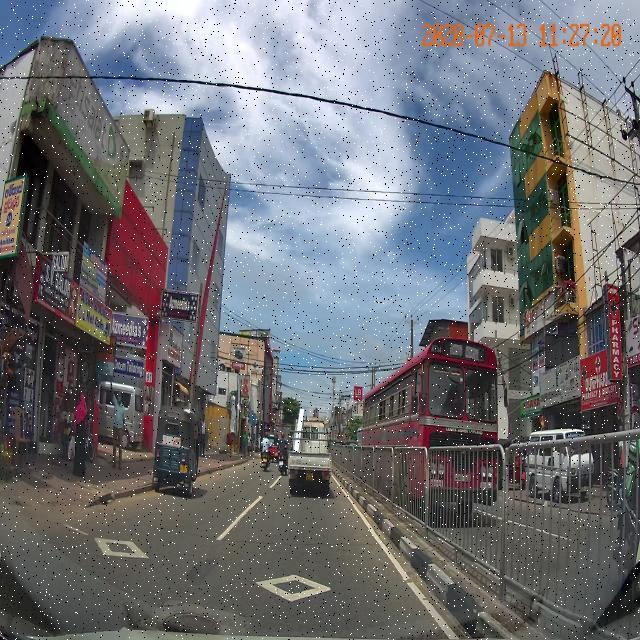diamond: (140, 546, 464, 635)
